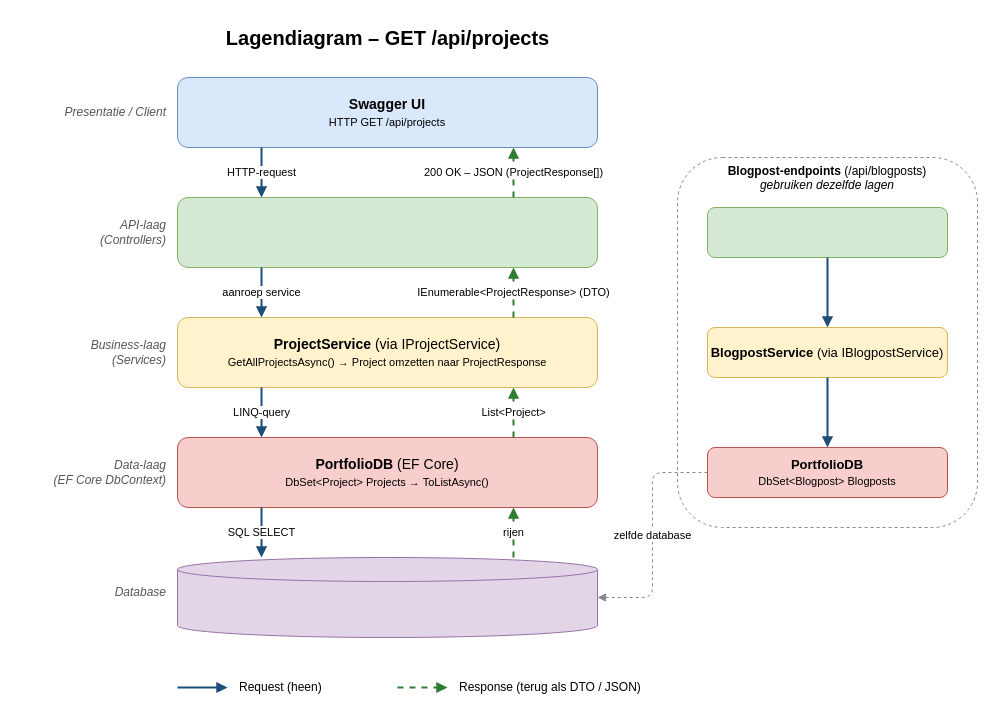
This 995x719 diagram has some shape labels left out. The shapes that lost their labels are listed below. From the top down, each one's centre as x and y in pixels, then its label:
point (387, 232): ProjectsController [HttpGet] GetAllProjects() → Ok(projects)
point (827, 232): BlogpostsController
point (387, 597): SQL Server localhost\SQLEXPRESS – database PortfolioDb, tabel Projects
